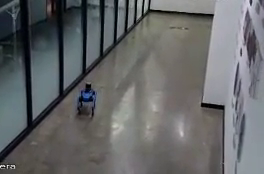robot dog: (75, 81, 98, 118)
